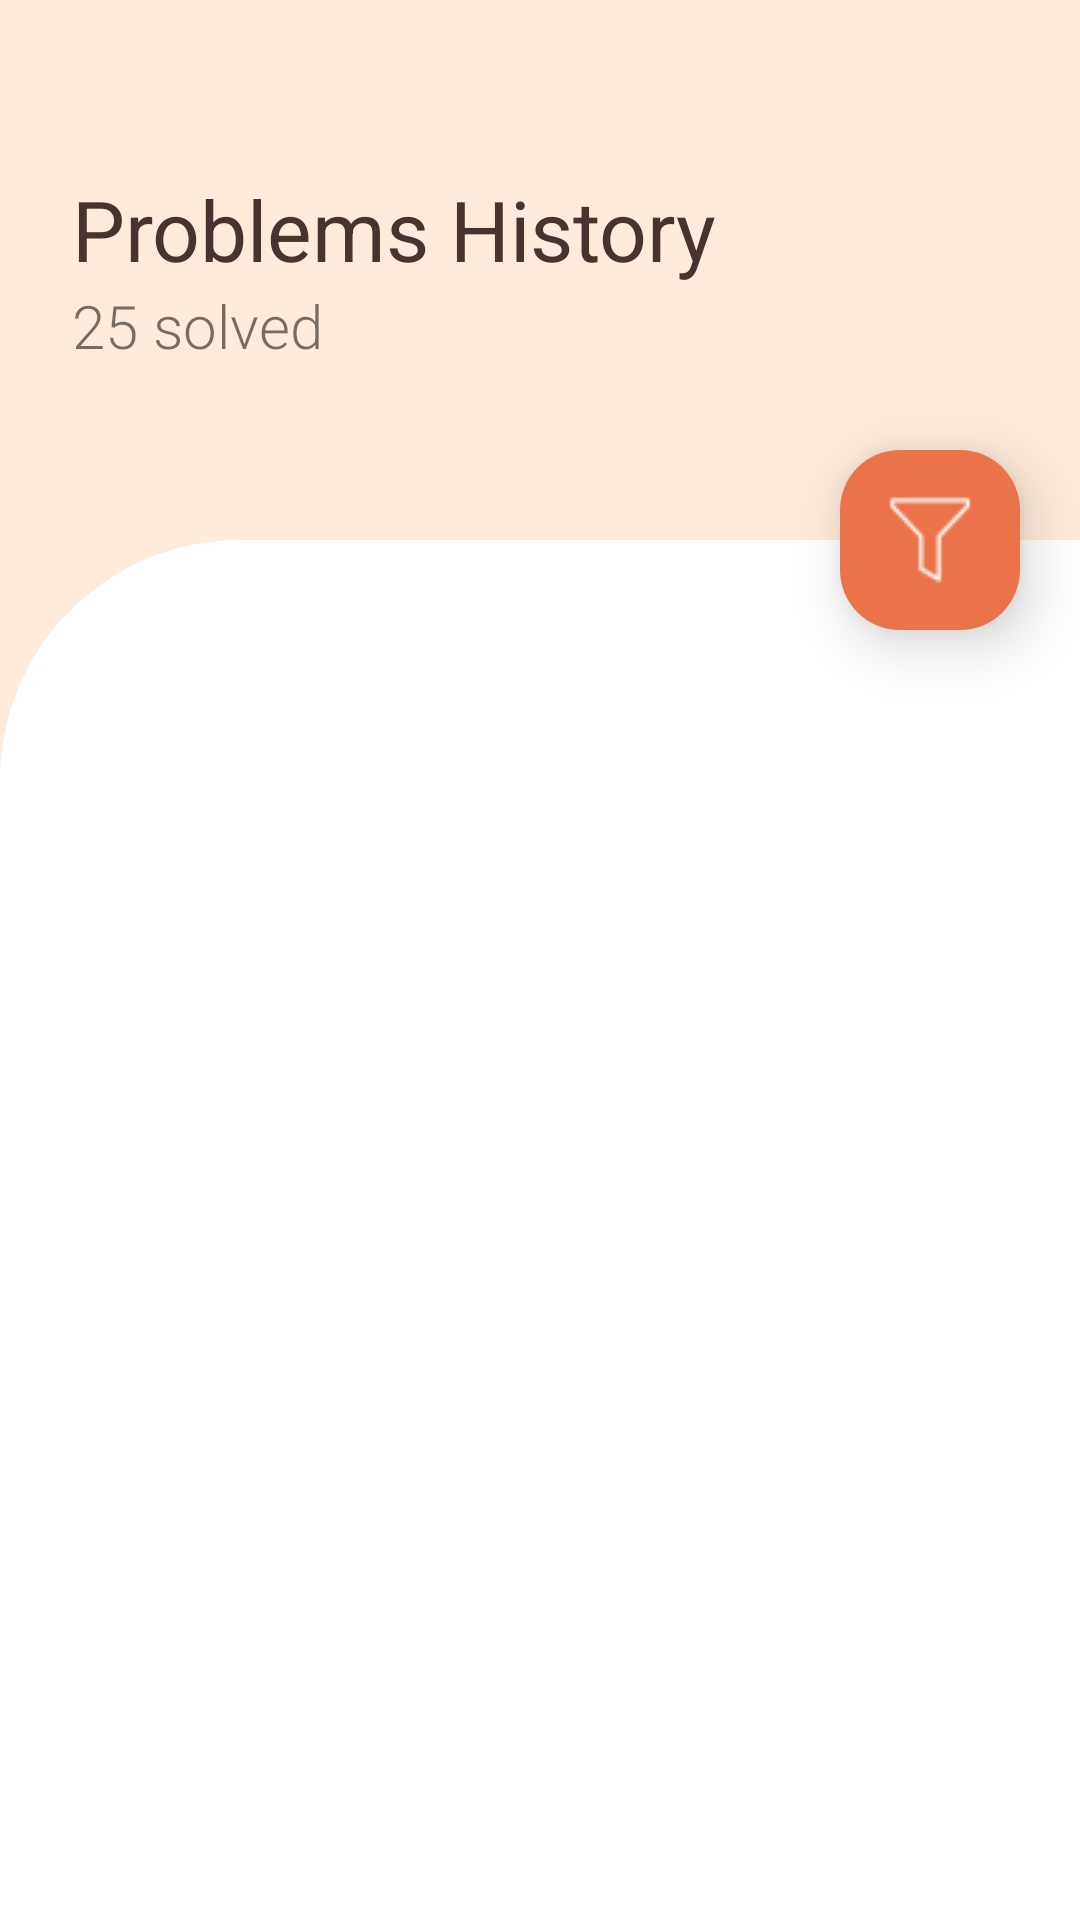

Screen size 1080px×1920px. Icon name, then its box in pixels as (x1, y1, x2, y2):
filter: (840, 450, 1020, 630)
